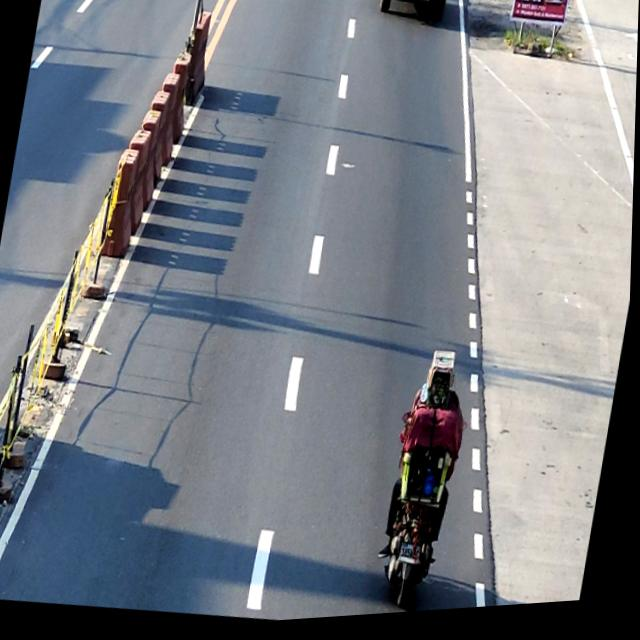License-Plate: (401, 546, 427, 571)
Motorcycle: (374, 412, 473, 620)
